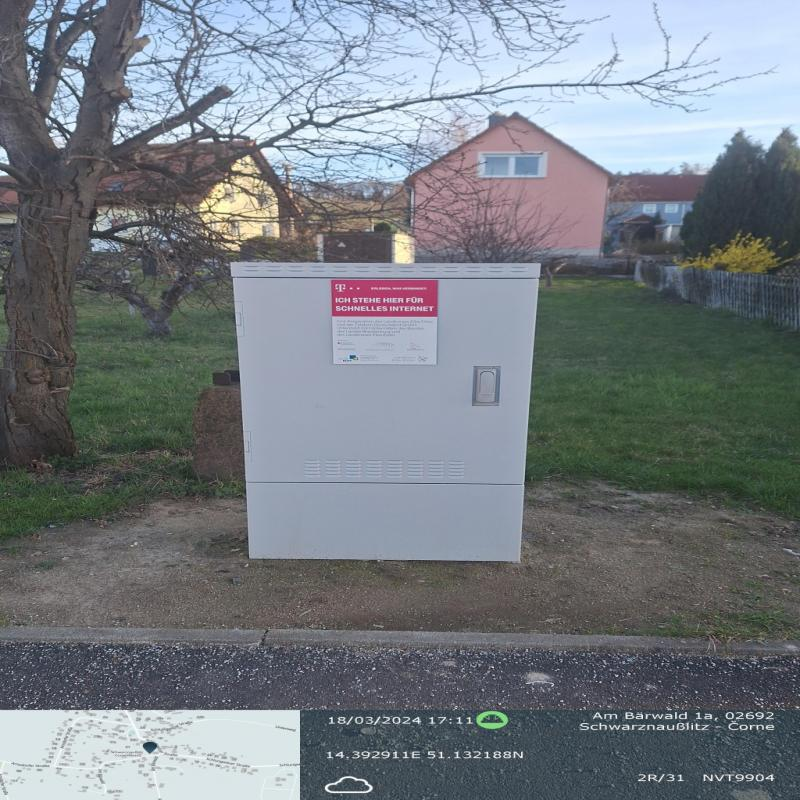NT-Gehause: (235, 264, 542, 563)
Steaker: (329, 278, 438, 364)
